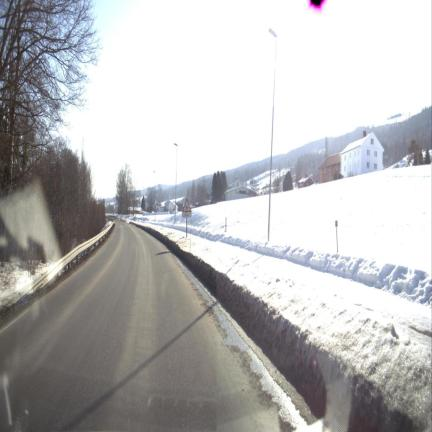Road: (0, 222, 280, 431)
